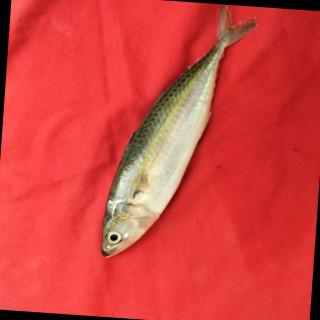Ikan: (83, 1, 261, 277)
